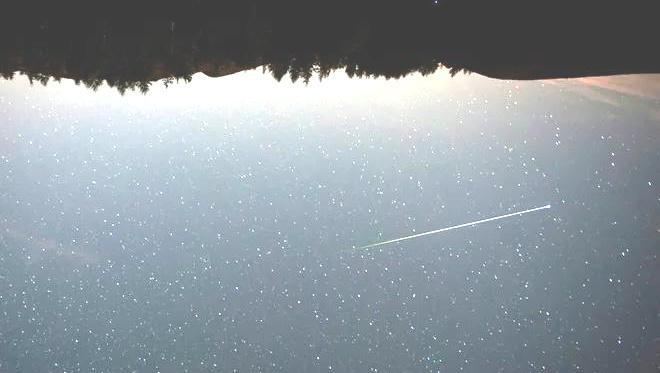meteorite: (349, 200, 563, 252)
